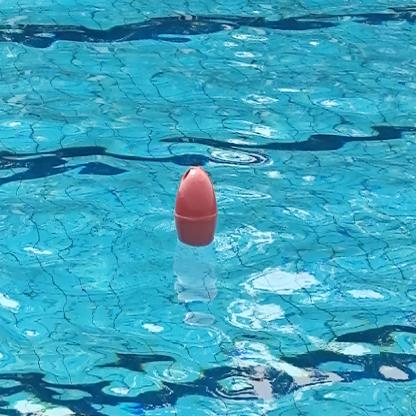red_buoy: (173, 160, 218, 249)
